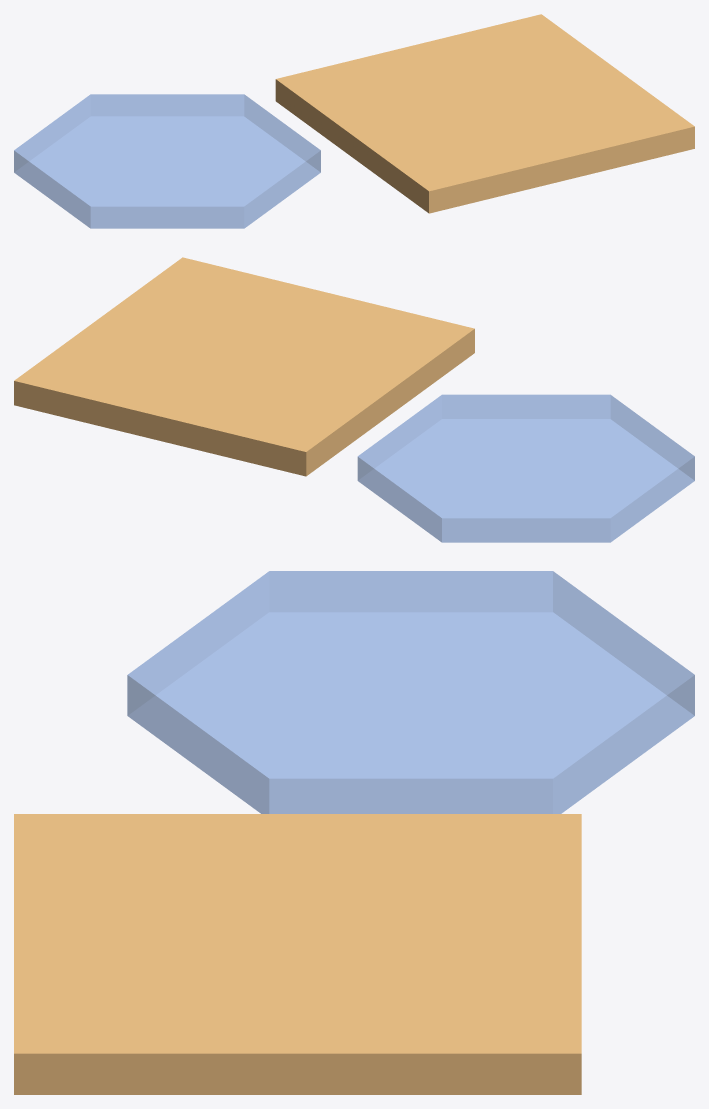
Rendered from elicottero_step3.glb.
3 views of the same model, one above another, from view 1: azimuth 30°, elevation 25°; view 2: azimuth 150°, elevation 25°; view 3: azimuth 270°, elevation 25° (orthographic). The views are drawn at different scales.
Parts seen in each view (by area): view 1: quadrato_piccolo, esagono; view 2: quadrato_piccolo, esagono; view 3: quadrato_piccolo, esagono.
Boxes of the visible parts, left/top/right/bottom form: quadrato_piccolo: left=275, top=14, right=694, bottom=213; esagono: left=14, top=94, right=320, bottom=228; quadrato_piccolo: left=14, top=257, right=474, bottom=476; esagono: left=357, top=394, right=694, bottom=542; quadrato_piccolo: left=14, top=814, right=581, bottom=1094; esagono: left=127, top=571, right=694, bottom=813.
Bounding box in the file's own units: 2.01 × 0.08 × 1.2.
